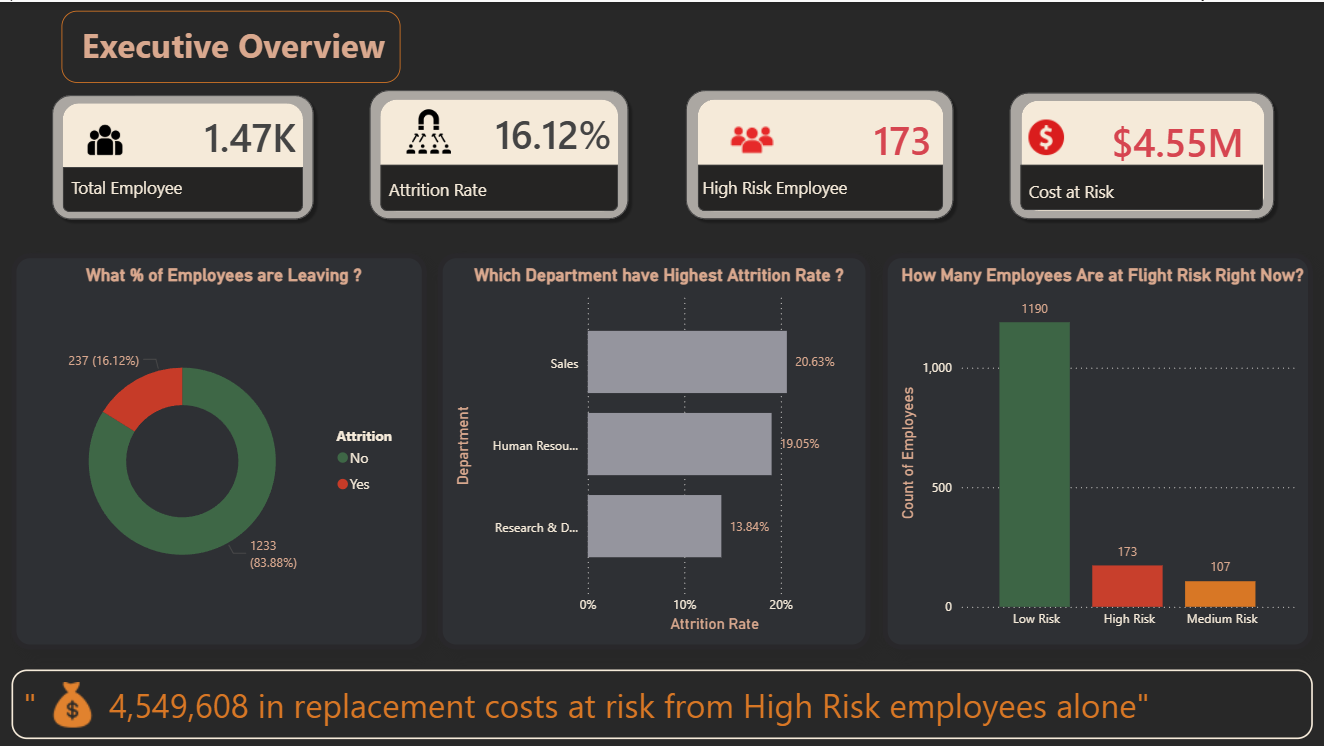

This screenshot's page, from the dashboard's own definition file:
{"tool":"powerbi","page":{"name":"Executive Overview","canvas":[1280,720],"ordinal":0},"visuals":[{"type":"shape","title":"Outer Rectangle","box":[350.7,78.4,263,137.8],"z":0,"group":"g2"},{"type":"shape","title":"Outer Rectangle","box":[655.7,78.5,271.4,137.8],"z":0,"group":"g4"},{"type":"shape","title":"Outer Rectangle","box":[968.6,81,268.5,135.3],"z":0,"group":"g3"},{"type":"group","id":"g1","title":"Total Employee Card","box":[44.9,83.5,265.5,133.4],"z":0},{"type":"shape","title":"Outer Rectangle","box":[44.9,83.5,265.6,133.3],"z":0,"group":"g1"},{"type":"group","id":"g2","title":"Total Employee Card","box":[350.7,78.4,263.4,139.1],"z":1000},{"type":"shape","title":"Inner Rectangle","box":[368,93.7,229.7,108.2],"z":1000,"group":"g2"},{"type":"shape","title":"Inner Rectangle","box":[673.5,93.8,237,108.2],"z":1000,"group":"g4"},{"type":"shape","title":"Inner Rectangle","box":[986.2,96,234.5,106.3],"z":1000,"group":"g3"},{"type":"shape","title":"Inner Rectangle","box":[62.4,98.3,231.9,104.6],"z":1000,"group":"g1"},{"type":"group","id":"g3","title":"Total Employee Card","box":[968.6,81,268,135.9],"z":2000},{"type":"cardVisual","title":"Card","fields":{"Data":["HR-Employee-Attrition.Attrition Rate"]},"box":[466,82.4,130.1,87.6],"z":2000,"group":"g2"},{"type":"cardVisual","title":"Card","fields":{"Data":["CountNonNull(HR-Employee-Attrition.EmployeeNumber)"]},"box":[126.1,83.6,168,91.8],"z":2000,"group":"g1"},{"type":"cardVisual","title":"Card","fields":{"Data":["flight_risk_employees.Cost At Risk"]},"box":[1067.5,86,159,96.2],"z":2000,"group":"g3"},{"type":"cardVisual","title":"Card","fields":{"Data":["flight_risk_employees.High Risk Employee"]},"box":[769.7,87.8,135.4,87],"z":2000,"group":"g4"},{"type":"group","id":"g4","title":"Total Employee Card","box":[655.7,78.5,280.5,138.4],"z":3000},{"type":"image","title":"Icon","box":[360.1,101.4,108.4,47.5],"z":3000,"group":"g2"},{"type":"image","title":"Icon","box":[681.9,111.8,88.2,41.6],"z":3000,"group":"g4"},{"type":"image","title":"Icon","box":[968.8,114.1,83.4,34.5],"z":3000,"group":"g3"},{"type":"image","title":"Icon","box":[62.2,116.6,81.7,34.1],"z":3000,"group":"g1"},{"type":"shape","title":"Footer Rectangle","box":[367.8,156.4,229.6,45],"z":4000,"group":"g2"},{"type":"shape","title":"Footer Rectangle","box":[673.3,156.5,237,45],"z":4000,"group":"g4"},{"type":"shape","title":"Footer Rectangle","box":[986,157.6,234.4,44.2],"z":4000,"group":"g3"},{"type":"shape","title":"Footer Rectangle","box":[62.2,158.9,231.9,43.5],"z":4000,"group":"g1"},{"type":"donutChart","title":"What % of Employees are Leaving ?","fields":{"Y":["Sum(HR-Employee-Attrition.EmployeeCount)"],"Category":["HR-Employee-Attrition.Attrition"]},"box":[12.3,242.6,400.6,382.2],"z":4000},{"type":"textbox","title":"Title","box":[60.3,162.6,242.7,40],"z":5000,"group":"g1"},{"type":"textbox","title":"Title","box":[669.6,162.9,267.1,37.7],"z":5000,"group":"g4"},{"type":"textbox","title":"Title","box":[366.9,165.4,240.1,37.7],"z":5000,"group":"g2"},{"type":"textbox","title":"Title","box":[984.5,166.4,243.7,35.7],"z":5000,"group":"g3"},{"type":"clusteredBarChart","title":"Which Department have Highest Attrition Rate ?","fields":{"Category":["HR-Employee-Attrition.Department"],"Y":["HR-Employee-Attrition.Attrition Rate"]},"box":[423.9,242.6,417.8,382.2],"z":5000},{"type":"columnChart","title":"How Many Employees Are at Flight Risk Right Now?","fields":{"Category":["flight_risk_employees.Risk_Tier"],"Y":["Sum(HR-Employee-Attrition.EmployeeCount)"]},"box":[852.7,242.6,415.3,382.2],"z":6000},{"type":"textbox","box":[60,8.6,327.1,69.8],"z":7000},{"type":"textbox","box":[12.3,644.4,1255.7,67.4],"z":8000},{"type":"image","box":[29.4,656.7,84.5,44.1],"z":9000}]}

Visuals, with their boxes in screenshot pixels (x1, y1, x2, y2), scaled from the page's 1280x720 canvas onto the 1324x746 screenshot:
"Outer Rectangle" shape: crop(363, 81, 635, 224)
"Outer Rectangle" shape: crop(678, 81, 959, 224)
"Outer Rectangle" shape: crop(1002, 84, 1280, 224)
"Total Employee Card" group: crop(46, 87, 321, 225)
"Outer Rectangle" shape: crop(46, 87, 321, 225)
"Total Employee Card" group: crop(363, 81, 635, 225)
"Inner Rectangle" shape: crop(381, 97, 618, 209)
"Inner Rectangle" shape: crop(697, 97, 942, 209)
"Inner Rectangle" shape: crop(1020, 99, 1263, 210)
"Inner Rectangle" shape: crop(65, 102, 304, 210)
"Total Employee Card" group: crop(1002, 84, 1279, 225)
"Card" cardVisual: crop(482, 85, 617, 176)
"Card" cardVisual: crop(130, 87, 304, 182)
"Card" cardVisual: crop(1104, 89, 1269, 189)
"Card" cardVisual: crop(796, 91, 936, 181)
"Total Employee Card" group: crop(678, 81, 968, 225)
"Icon" image: crop(372, 105, 485, 154)
"Icon" image: crop(705, 116, 797, 159)
"Icon" image: crop(1002, 118, 1088, 154)
"Icon" image: crop(64, 121, 149, 156)
"Footer Rectangle" shape: crop(380, 162, 618, 209)
"Footer Rectangle" shape: crop(696, 162, 942, 209)
"Footer Rectangle" shape: crop(1020, 163, 1262, 209)
"Footer Rectangle" shape: crop(64, 165, 304, 210)
"What % of Employees are Leaving ?" donutChart: crop(13, 251, 427, 647)
"Title" textbox: crop(62, 168, 313, 210)
"Title" textbox: crop(693, 169, 969, 208)
"Title" textbox: crop(380, 171, 628, 210)
"Title" textbox: crop(1018, 172, 1270, 209)
"Which Department have Highest Attrition Rate ?" clusteredBarChart: crop(438, 251, 871, 647)
"How Many Employees Are at Flight Risk Right Now?" columnChart: crop(882, 251, 1312, 647)
textbox: crop(62, 9, 400, 81)
textbox: crop(13, 668, 1312, 738)
image: crop(30, 680, 118, 726)
